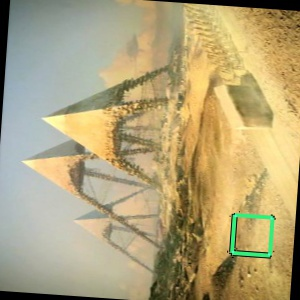square: (226, 211, 276, 261)
